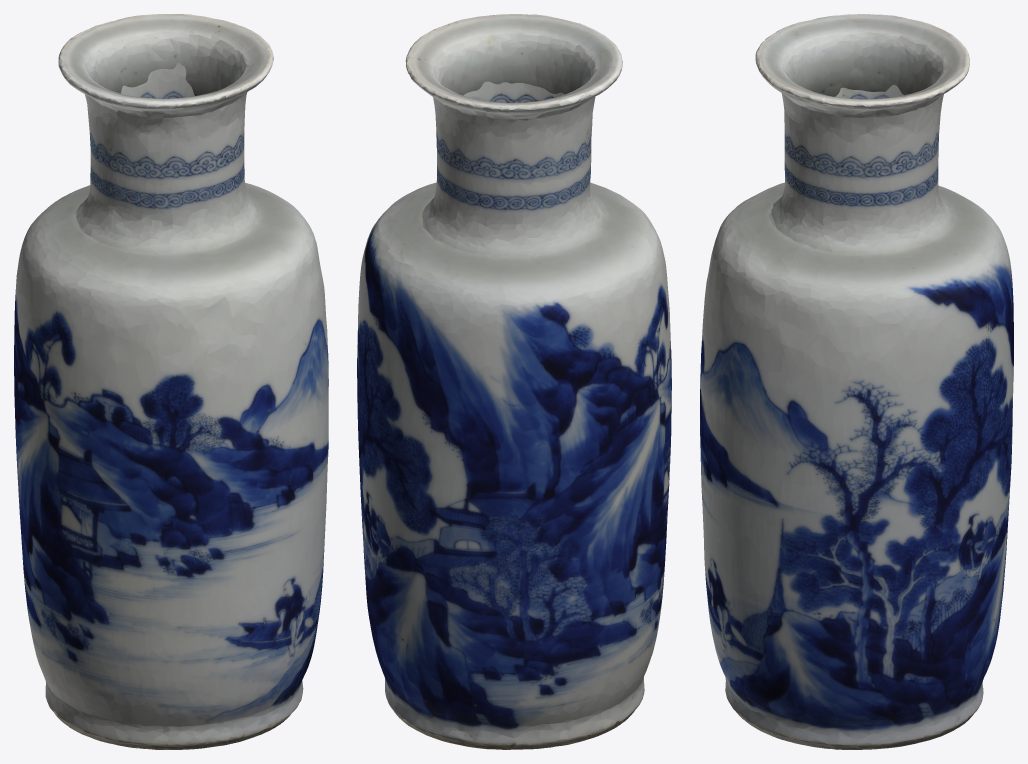
File: vase_original.fbx
The picture shows the model from 3 angles, left to right: view 1: azimuth 30°, elevation 25°; view 2: azimuth 150°, elevation 25°; view 3: azimuth 270°, elevation 25°; orthographic projection.
Parts seen in each view (by area): view 1: vase_f1991_150k:Mesh; view 2: vase_f1991_150k:Mesh; view 3: vase_f1991_150k:Mesh.
Part boxes in pixels (box(x1,y1,x2,y2)): vase_f1991_150k:Mesh: box(14, 14, 328, 749); vase_f1991_150k:Mesh: box(357, 14, 671, 749); vase_f1991_150k:Mesh: box(700, 14, 1013, 749).
Size of the model in its own units: 0.1163 by 0.2632 by 0.1165.
Materials: 1 (1 with a texture image).
